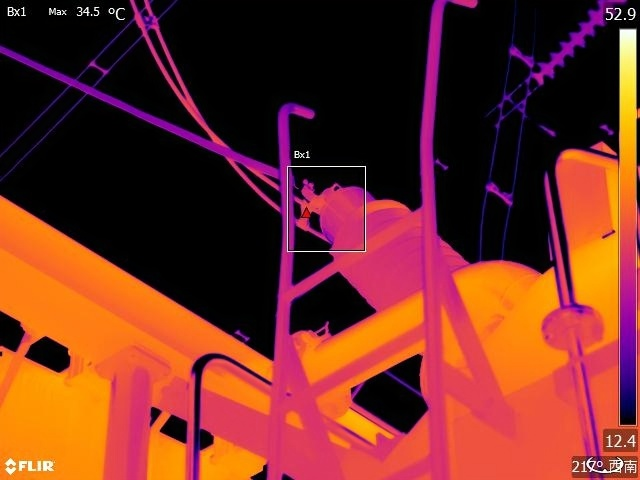tube: (305, 181, 476, 306)
